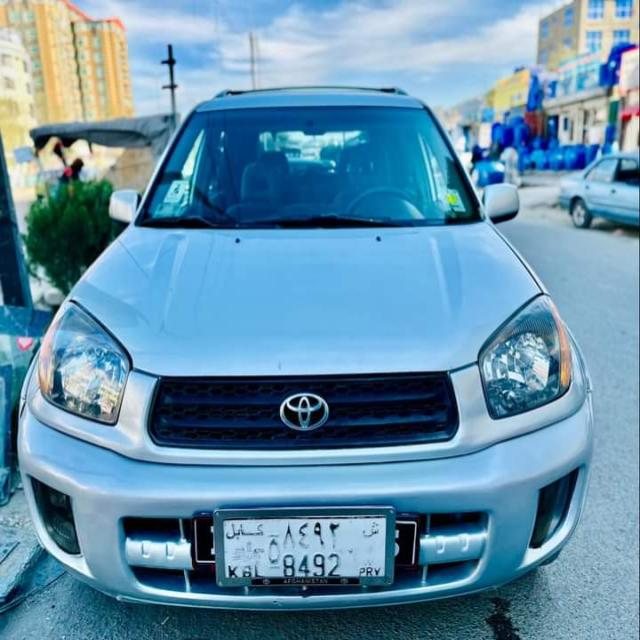Plate: (215, 508, 397, 586)
